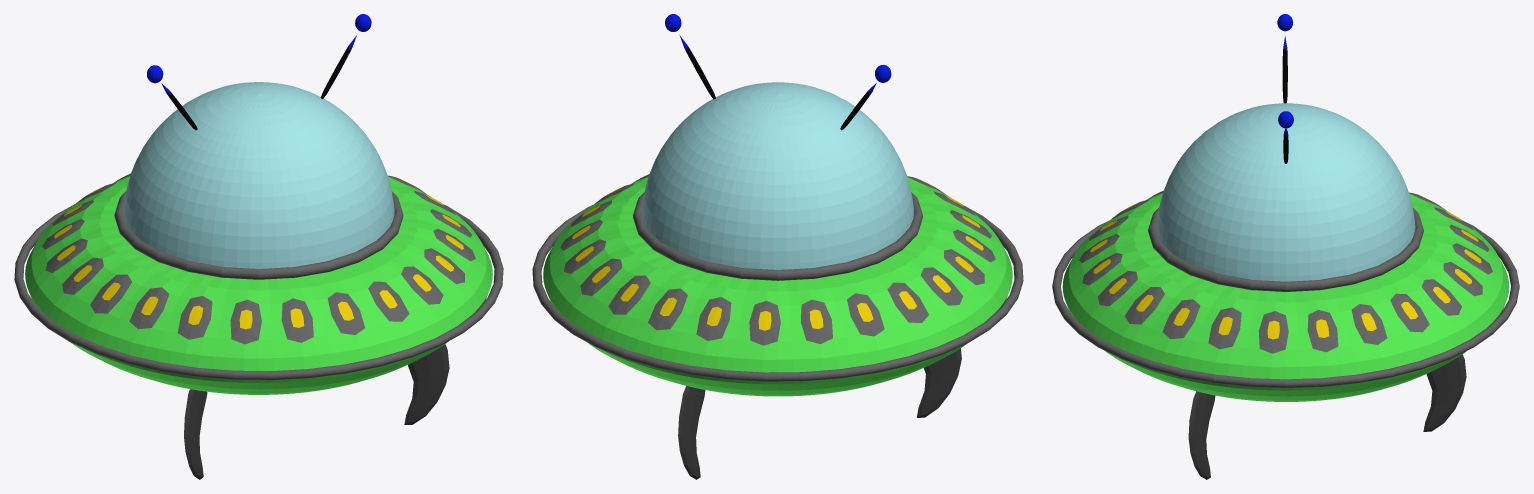
The model's file is GameAssetUFOGreen.fbx.
3 renders of one model, left to right at view 1: azimuth 30°, elevation 25°; view 2: azimuth 150°, elevation 25°; view 3: azimuth 270°, elevation 25°, orthographic. The views are drawn at different scales.
Visible parts, largest first — view 1: UFOBody; view 2: UFOBody; view 3: UFOBody.
Part boxes in pixels (x1,y1,x2,y2): UFOBody: (14, 14, 503, 479); UFOBody: (532, 14, 1023, 479); UFOBody: (1052, 14, 1519, 479).
Bounding box in the file's own units: 766 × 662 × 766.
